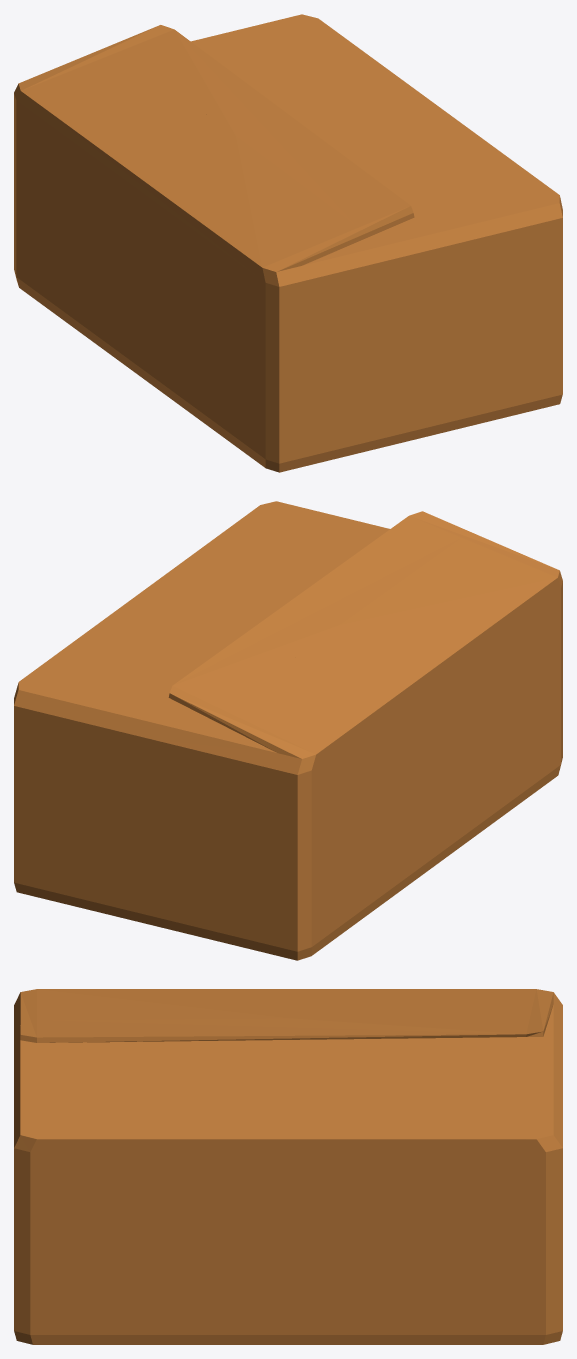
The model's file is Prop_Junk_Cardboard_Box_01.FBX.
3 views of the same model, one above another, from view 1: azimuth 30°, elevation 25°; view 2: azimuth 150°, elevation 25°; view 3: azimuth 270°, elevation 25° (orthographic). The views are drawn at different scales.
Visible parts, largest first — view 1: Prop_Junk_Cardboard_Box_01; view 2: Prop_Junk_Cardboard_Box_01; view 3: Prop_Junk_Cardboard_Box_01.
Boxes of the visible parts, x1,y1,x2,y2 form: Prop_Junk_Cardboard_Box_01: [14, 14, 562, 472]; Prop_Junk_Cardboard_Box_01: [14, 501, 562, 960]; Prop_Junk_Cardboard_Box_01: [14, 989, 562, 1344].
Bounding box in the file's own units: 425 × 312 × 657.
